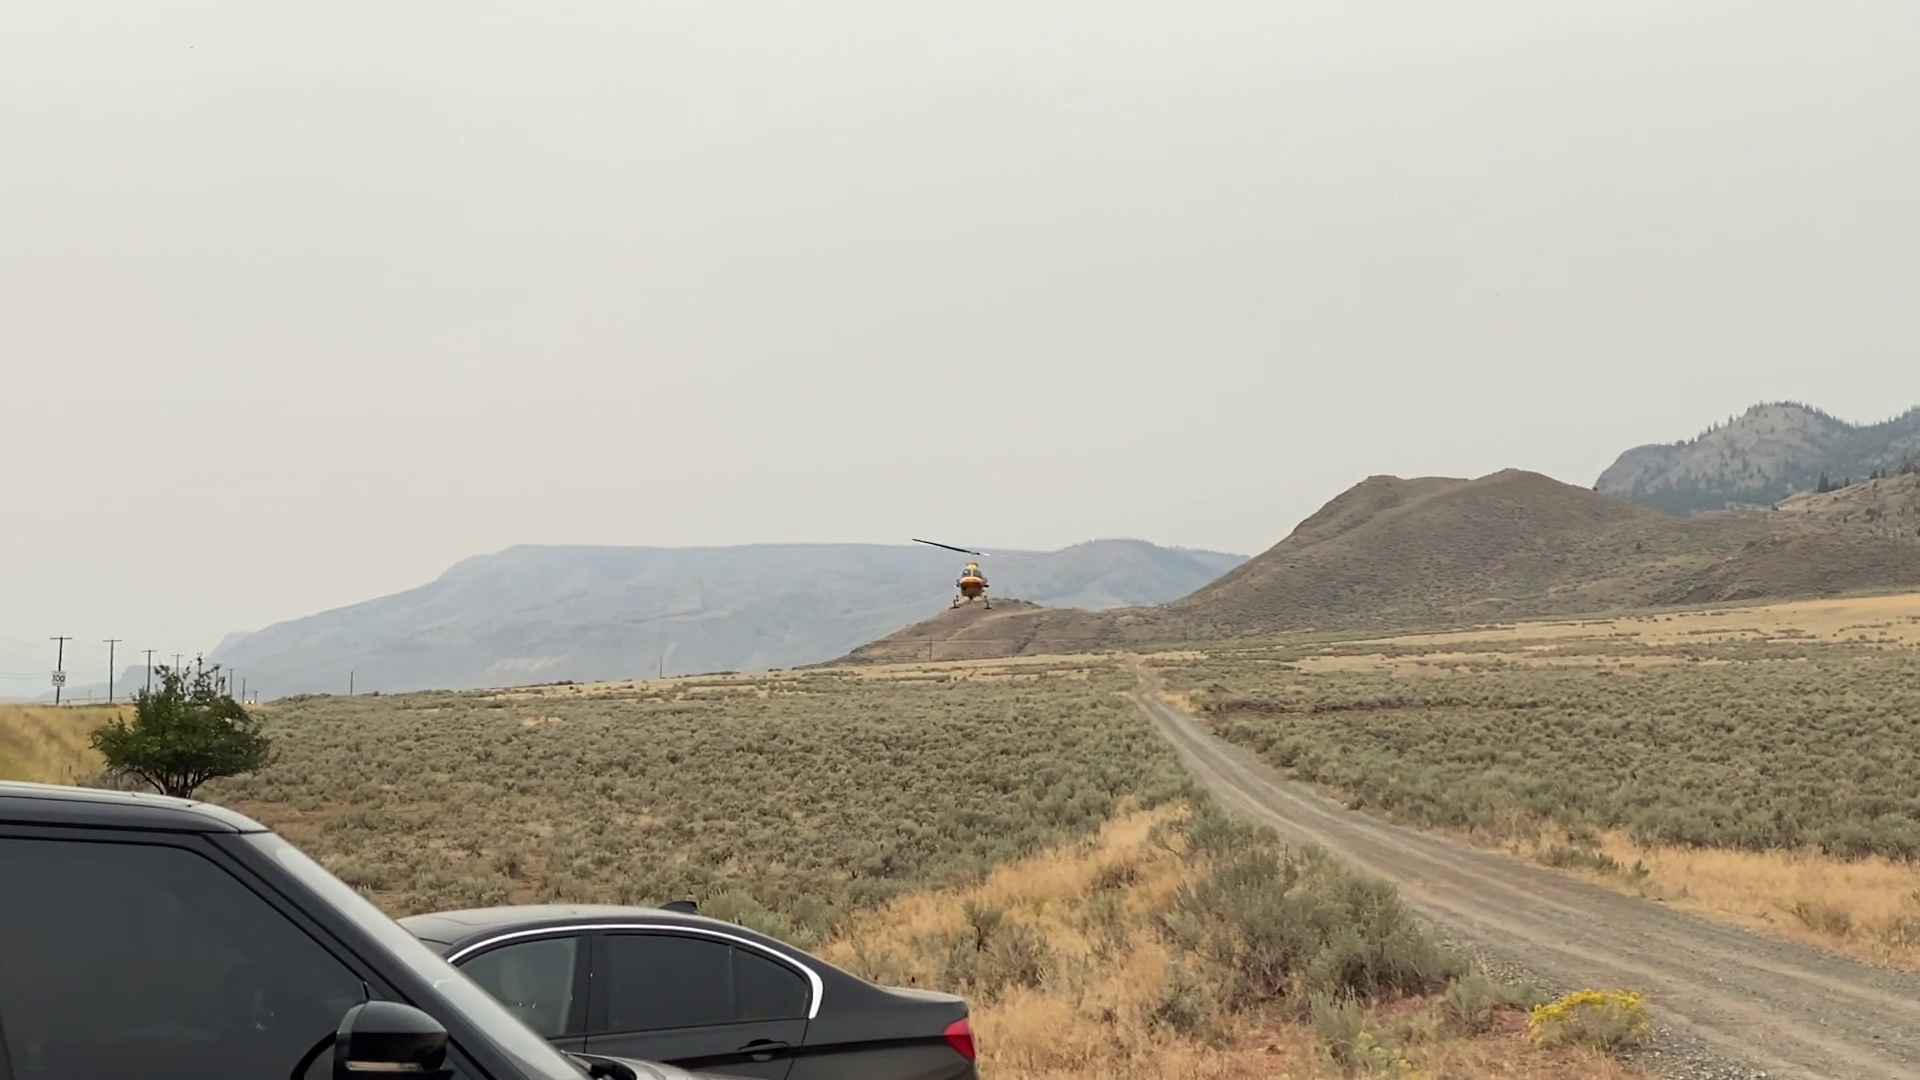heli: (913, 535, 1007, 611)
